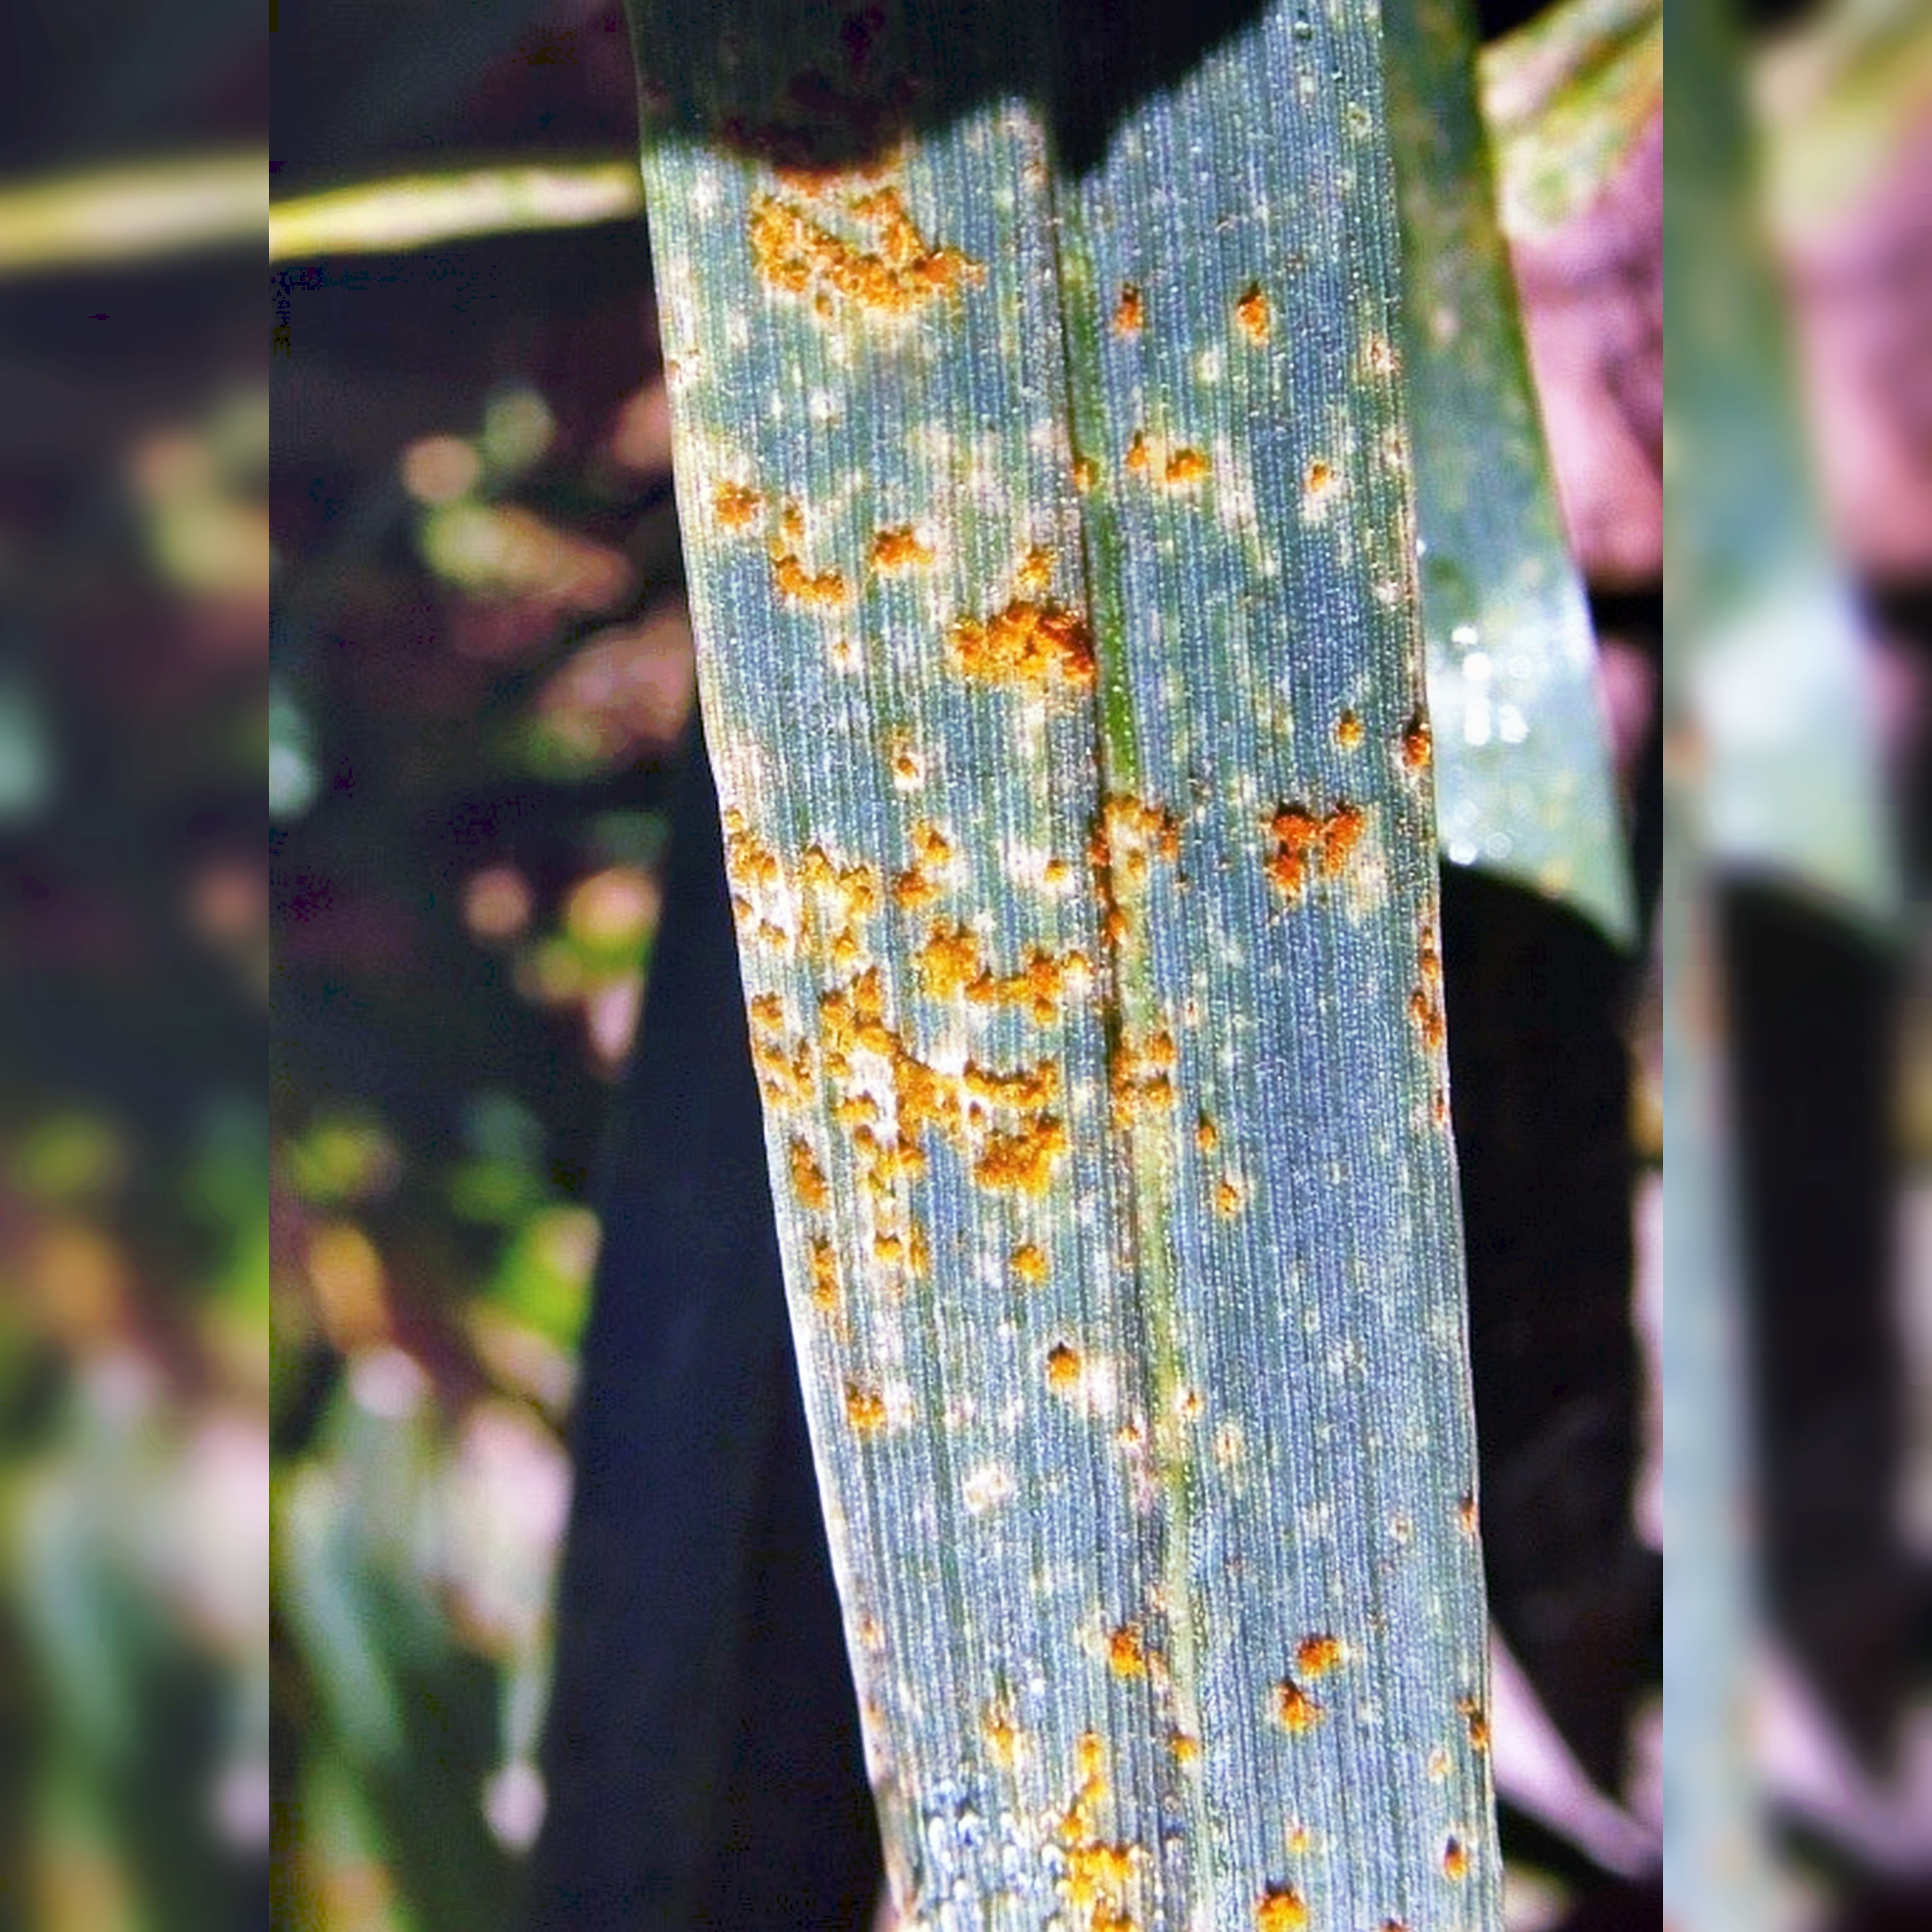Leaf Rust: (676, 161, 1477, 1444)
